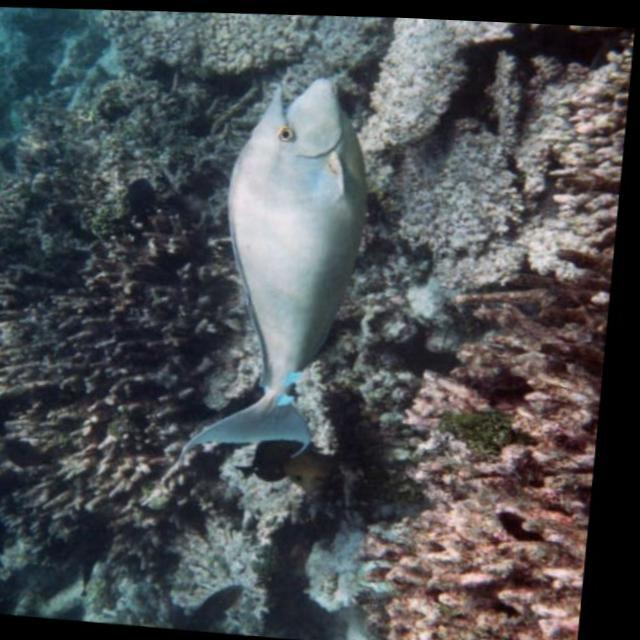Dead Coral: (0, 194, 250, 559)
